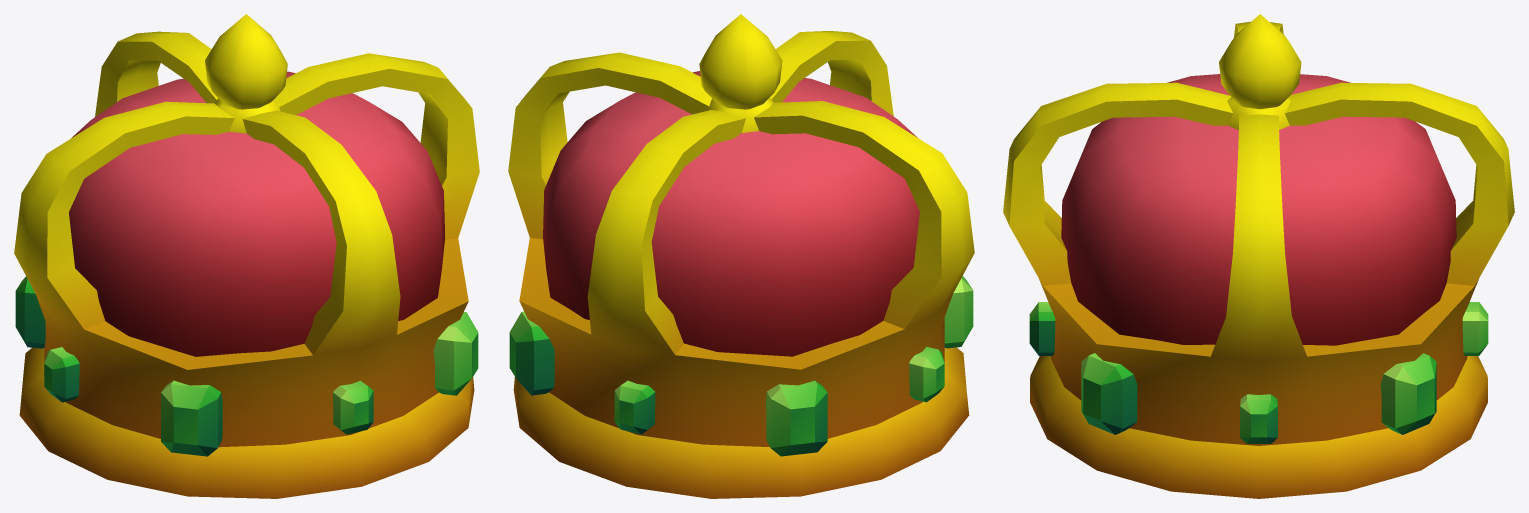
The model's file is Crown_04.glb.
3 renders of one model, left to right at view 1: azimuth 30°, elevation 25°; view 2: azimuth 150°, elevation 25°; view 3: azimuth 270°, elevation 25°, orthographic.
Parts seen in each view (by area): view 1: Crown_04; view 2: Crown_04; view 3: Crown_04.
Boxes of the visible parts, box(x1,y1,x2,y2) form: Crown_04: box(14, 14, 479, 498); Crown_04: box(508, 14, 974, 498); Crown_04: box(1003, 14, 1514, 498).
Size of the model in its own units: 0.6102 by 0.5227 by 0.6102.
Materials: 1 (1 with a texture image).
